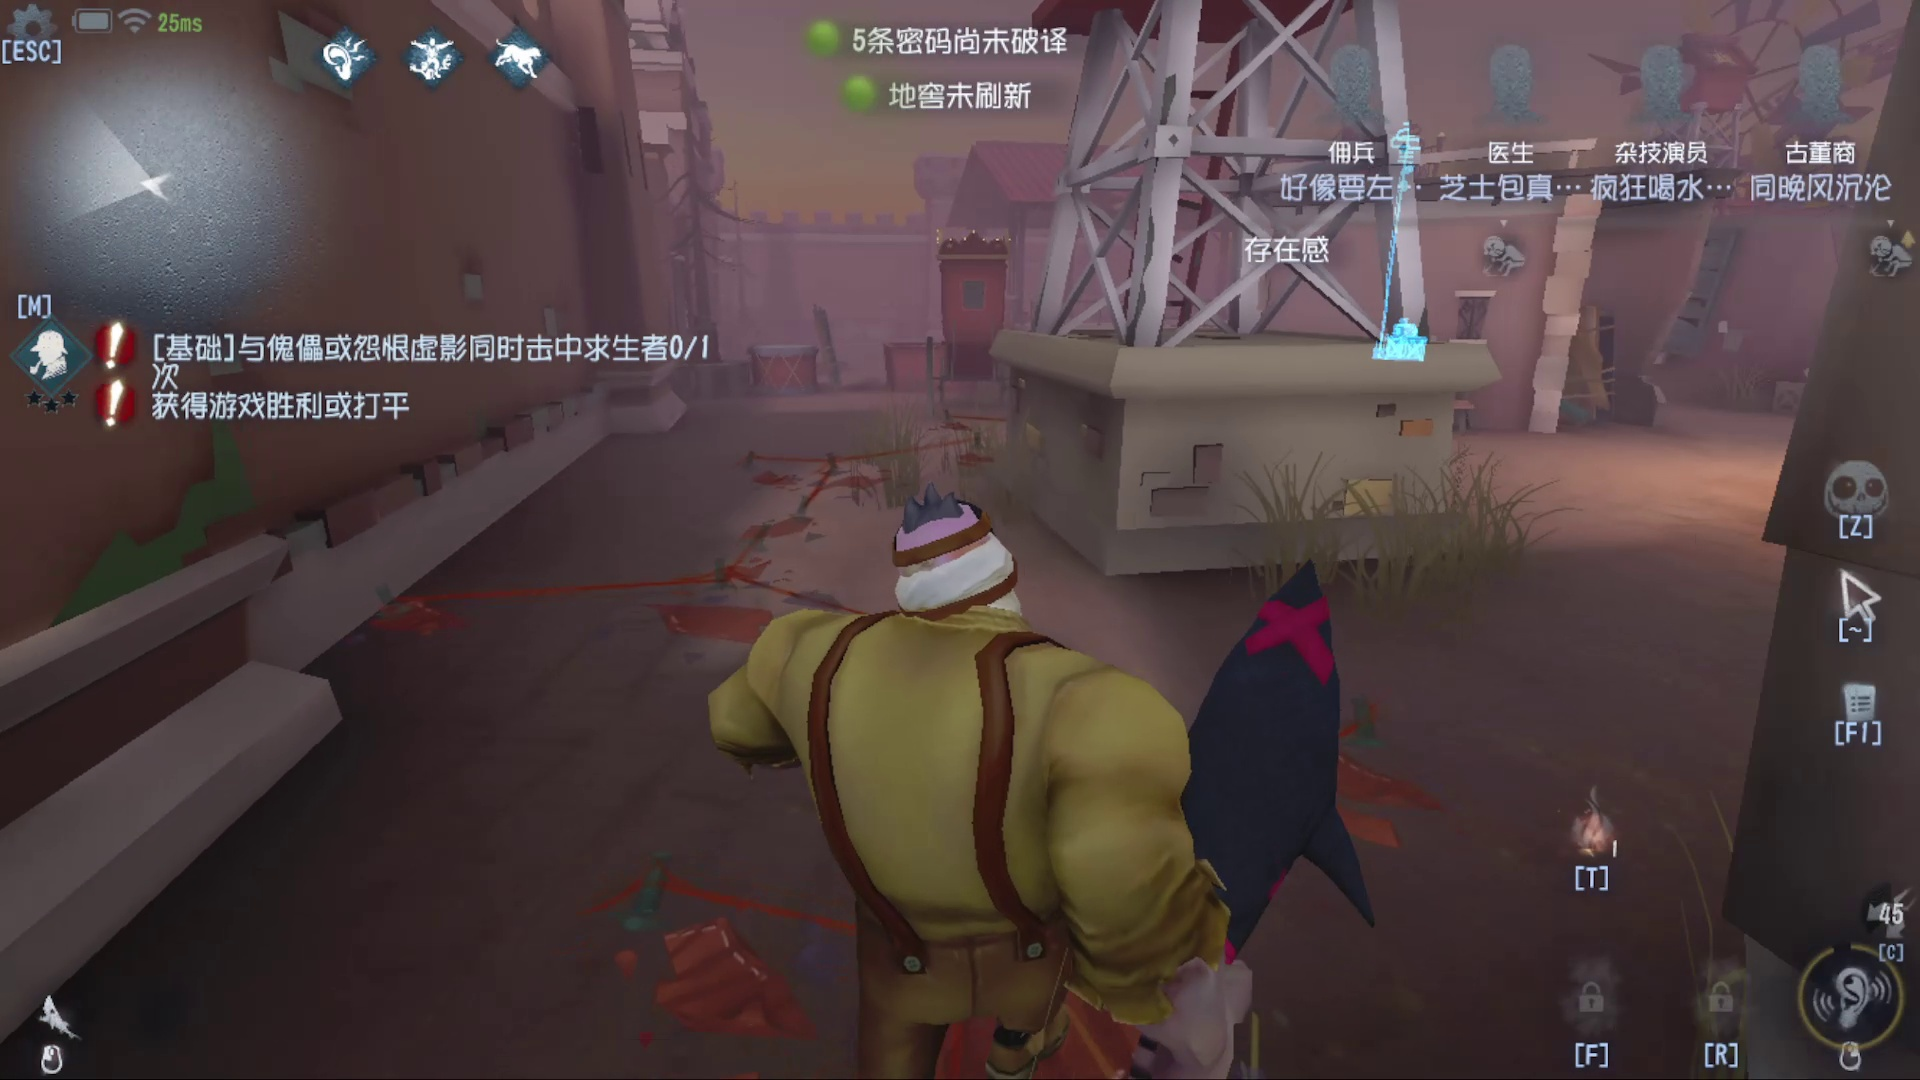密码机: (1375, 103, 1448, 390)
木板: (1532, 287, 1629, 440), (804, 294, 855, 396)
脚印: (608, 454, 876, 603)
